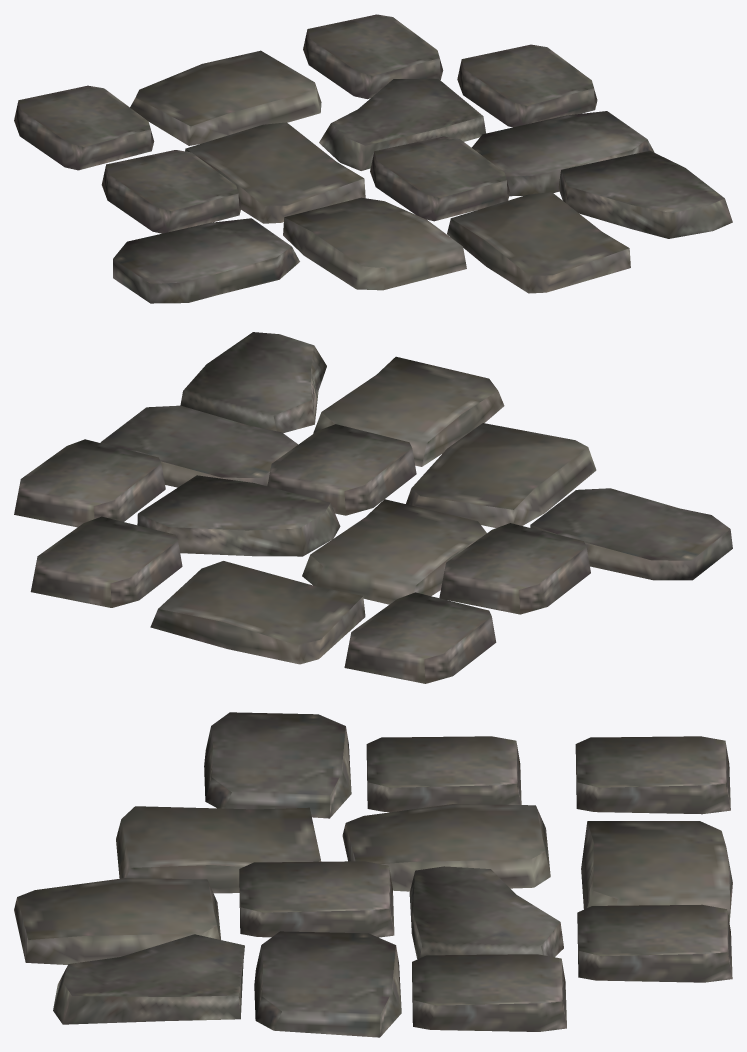
Rendered from SC_SLstone07.FBX.
3 renders of one model, top to bottom at view 1: azimuth 30°, elevation 25°; view 2: azimuth 150°, elevation 25°; view 3: azimuth 270°, elevation 25°, orthographic. The views are drawn at different scales.
Visible parts, largest first — view 1: SC_SLstone07; view 2: SC_SLstone07; view 3: SC_SLstone07.
Part boxes in pixels (left/top/right/bottom): SC_SLstone07: left=14, top=14, right=732, bottom=303; SC_SLstone07: left=14, top=332, right=732, bottom=683; SC_SLstone07: left=14, top=712, right=732, bottom=1037.
Bounding box in the file's own units: 189 × 11.42 × 186.
